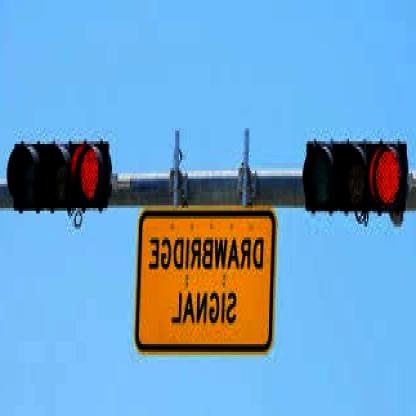traffic-light: (307, 136, 408, 213), (8, 139, 108, 213)
